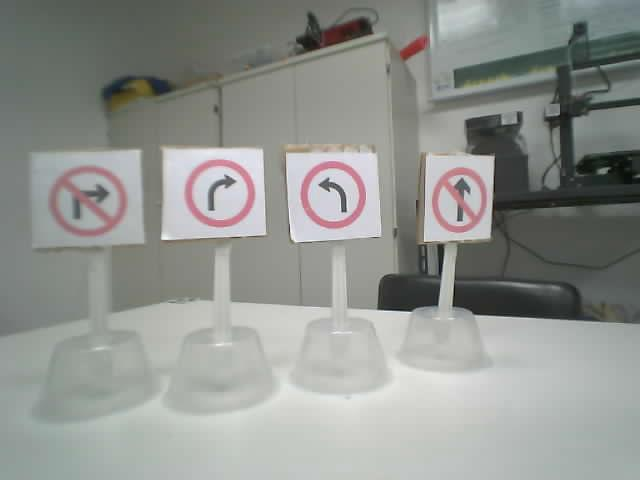R-25a_esquerda: (297, 160, 366, 229)
R-25b_direita: (183, 157, 256, 228)
R-3_sentido-proibido: (431, 166, 488, 233)
R-4b_proibido-direita: (50, 164, 128, 236)
